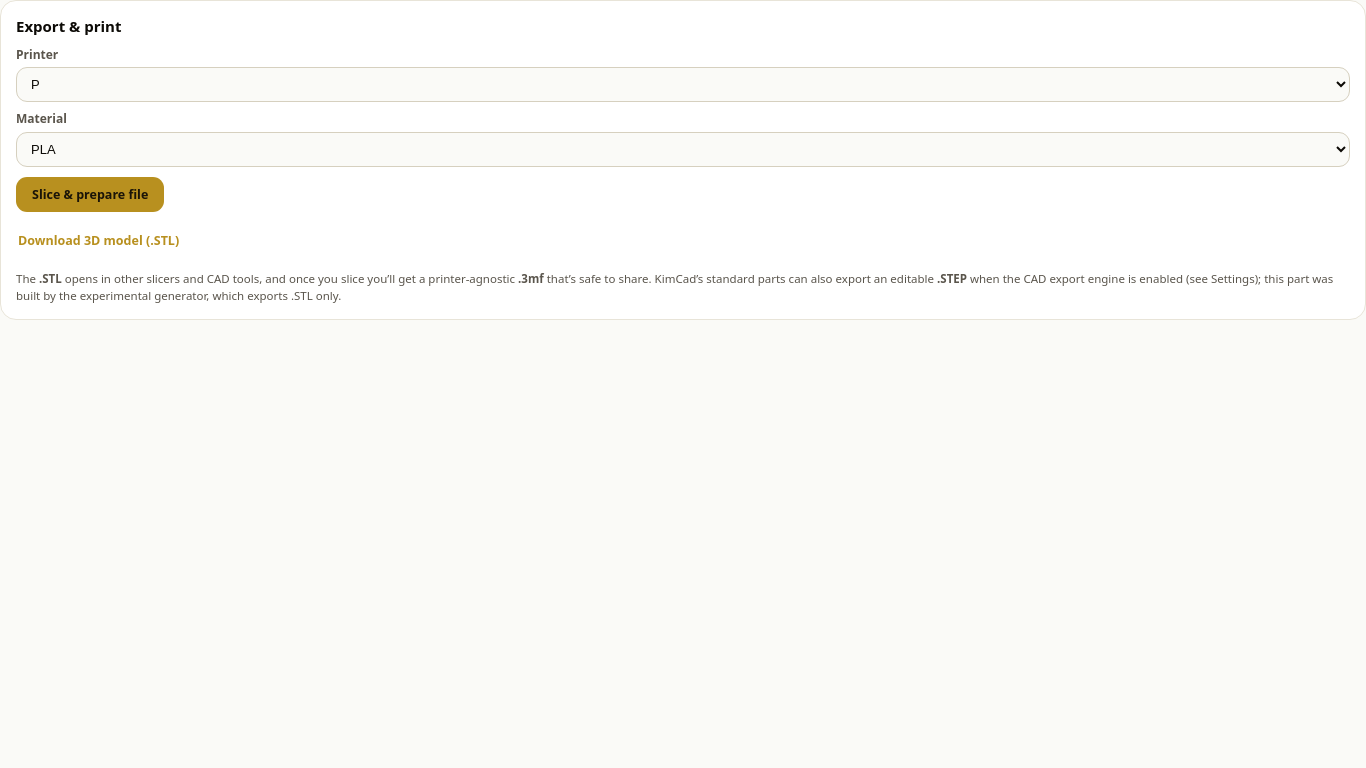
Test case: ExportPanel print summary (Slice 10) › breaks the estimate into labeled stats (time, layers, filament length + weight)
Click the button "Slice & prepare file" at (90, 194), box left=16, top=176, right=164, bottom=212
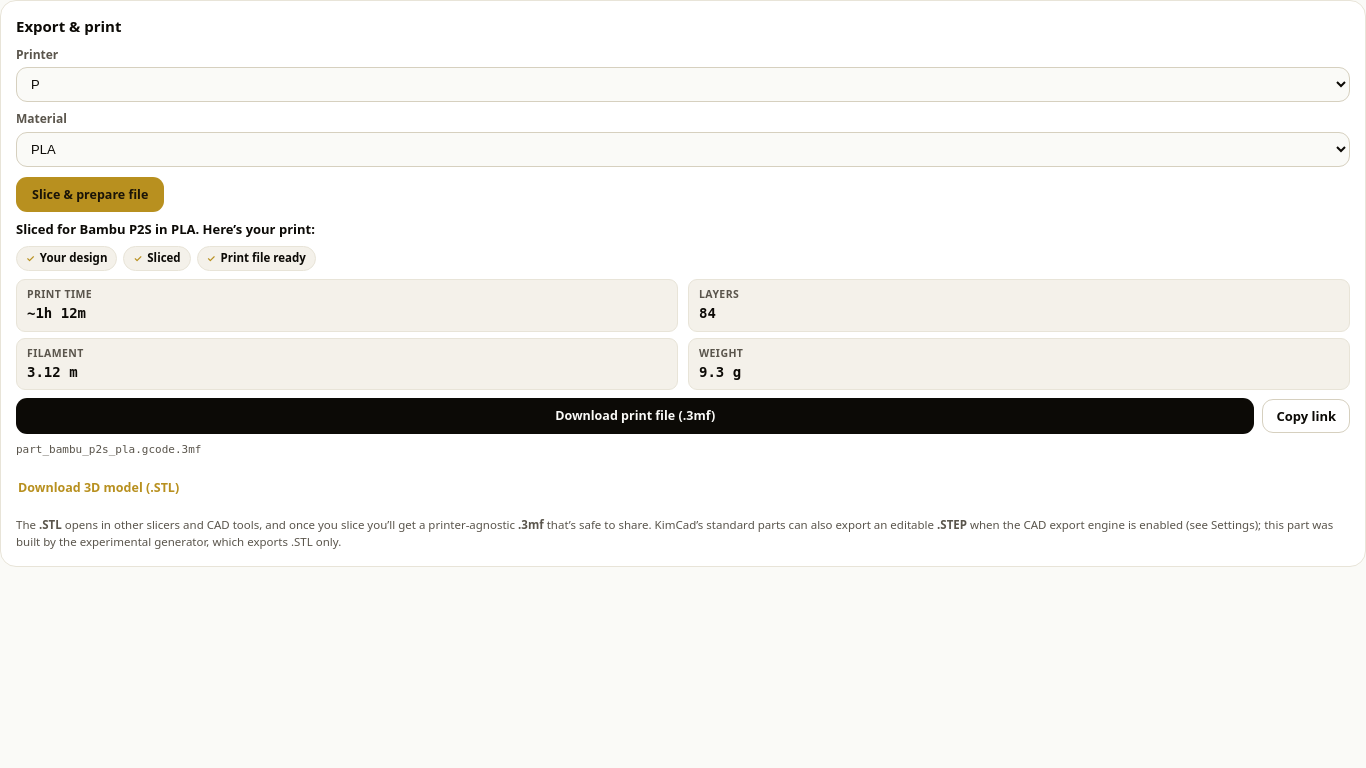
Result: the text "Print time" is shown at left=27, top=287, right=92, bottom=301
Result: the text "Layers" is shown at left=699, top=287, right=739, bottom=301
Result: the text "Filament" is shown at left=27, top=346, right=84, bottom=360
